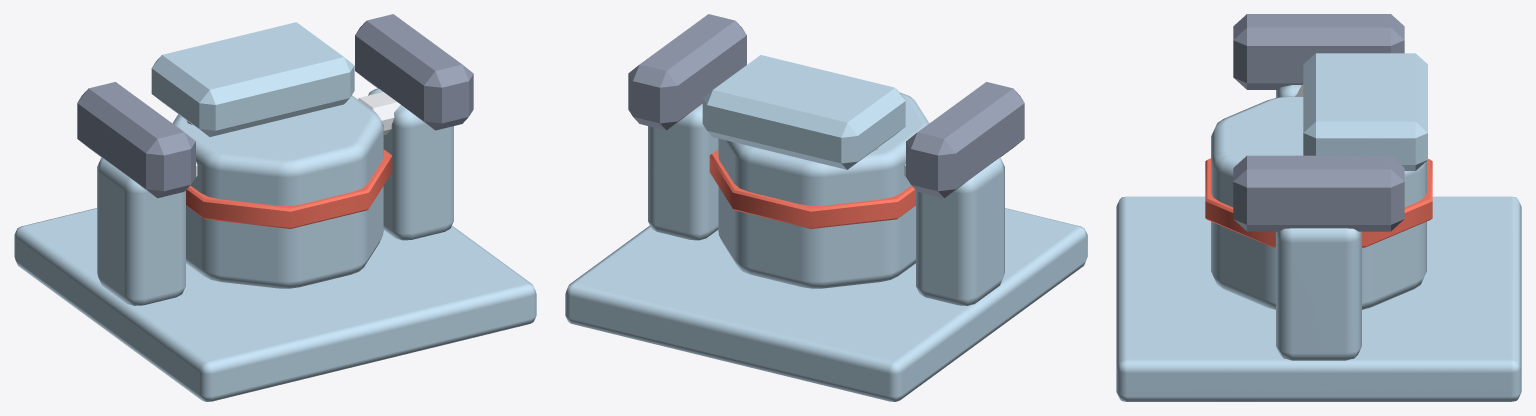
Rendered from R4X_OffensiveTurretDeployer.fbx.
3 views of the same model, side by side, from view 1: azimuth 30°, elevation 25°; view 2: azimuth 150°, elevation 25°; view 3: azimuth 270°, elevation 25° (orthographic). The views are drawn at different scales.
Visible parts, largest first — view 1: R4X_OffensiveTurretDeployer_Body, R4X_OffensiveTurretDeployer_Pod; view 2: R4X_OffensiveTurretDeployer_Body, R4X_OffensiveTurretDeployer_Pod; view 3: R4X_OffensiveTurretDeployer_Body, R4X_OffensiveTurretDeployer_Pod.
Part boxes in pixels (x1,y1,x2,y2): R4X_OffensiveTurretDeployer_Body: (14, 14, 536, 401); R4X_OffensiveTurretDeployer_Pod: (151, 22, 392, 288); R4X_OffensiveTurretDeployer_Body: (565, 14, 1087, 401); R4X_OffensiveTurretDeployer_Pod: (702, 55, 929, 288); R4X_OffensiveTurretDeployer_Body: (1116, 14, 1521, 401); R4X_OffensiveTurretDeployer_Pod: (1205, 53, 1432, 309).
Bounding box in the file's own units: 0.52 × 0.33 × 0.52.
